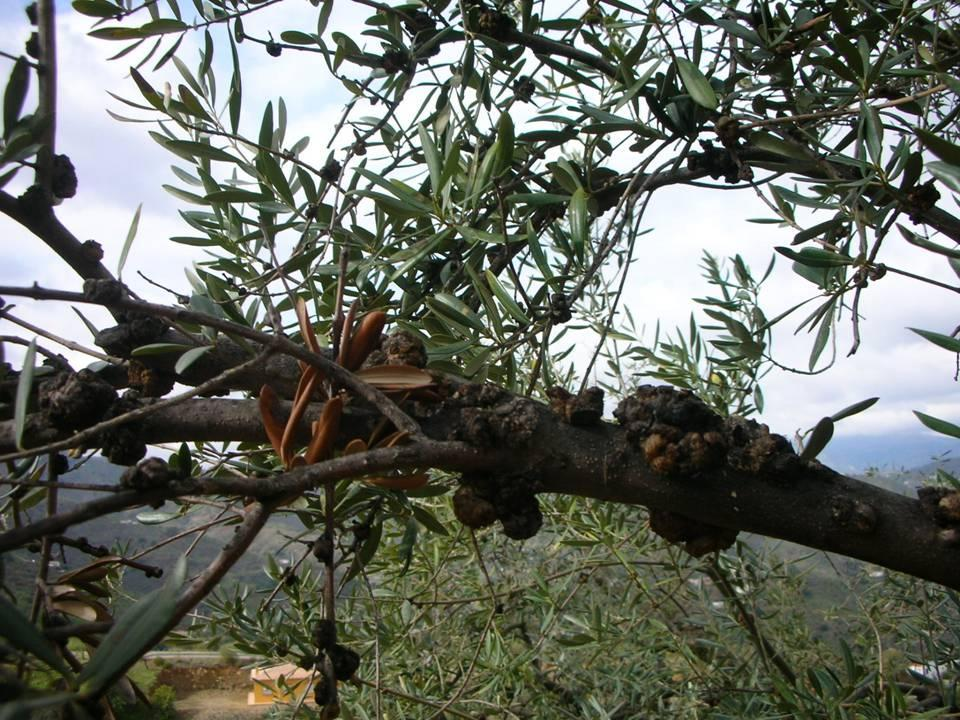Tuberculosis: (610, 379, 736, 481), (724, 411, 800, 478), (541, 379, 608, 431), (120, 351, 179, 403), (915, 481, 960, 547), (378, 326, 431, 372), (42, 150, 81, 201), (131, 453, 174, 499), (328, 644, 364, 683), (306, 614, 340, 652), (79, 236, 108, 265), (312, 675, 336, 706), (318, 699, 344, 720)
